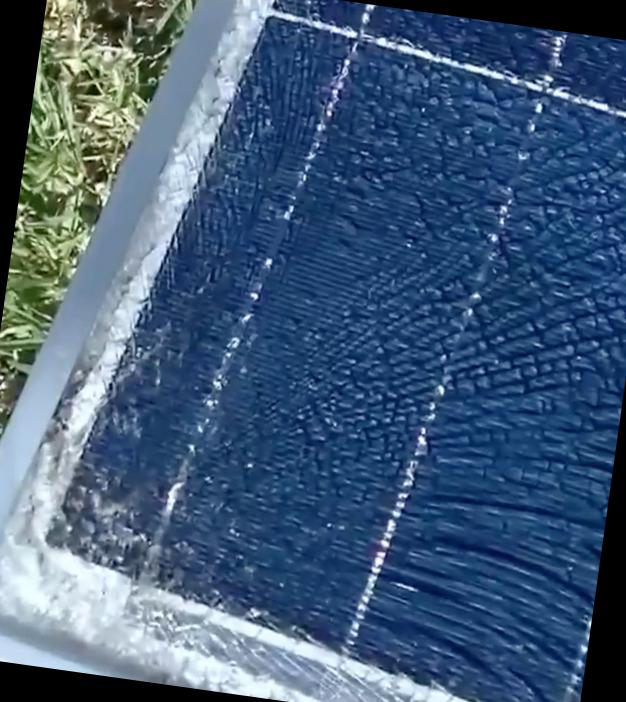Crack: (106, 0, 625, 701)
